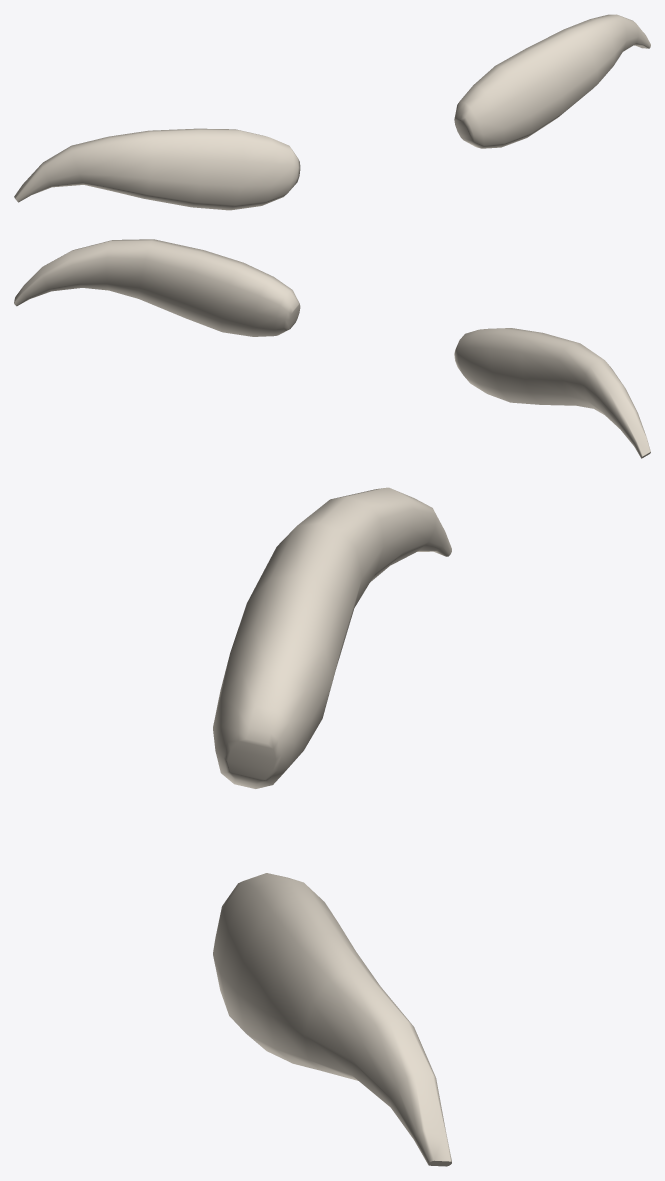
Rendered from Eyebrows_23_07.fbx.
3 views of the same model, one above another, from view 1: azimuth 30°, elevation 25°; view 2: azimuth 150°, elevation 25°; view 3: azimuth 270°, elevation 25° (orthographic). The views are drawn at different scales.
Visible parts, largest first — view 1: Eyebrows_23_07; view 2: Eyebrows_23_07; view 3: Eyebrows_23_07.
Part boxes in pixels (left/top/right/bottom): Eyebrows_23_07: left=14, top=14, right=650, bottom=210; Eyebrows_23_07: left=14, top=239, right=650, bottom=458; Eyebrows_23_07: left=213, top=487, right=451, bottom=1166.
Size of the model in its own units: 19.19 by 2.4 by 3.13.
